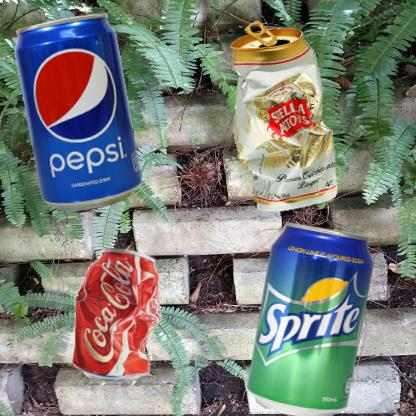lata: (10, 213, 232, 416), (213, 213, 414, 416), (10, 10, 157, 236), (213, 10, 358, 239)
